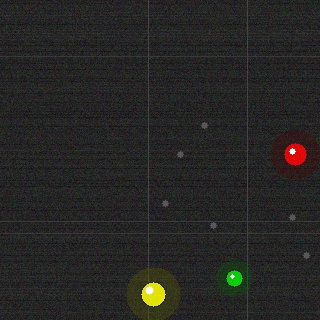green_normal: (224, 268, 244, 288)
red_fault: (282, 141, 308, 167)
yellow_warning: (139, 280, 167, 308)
